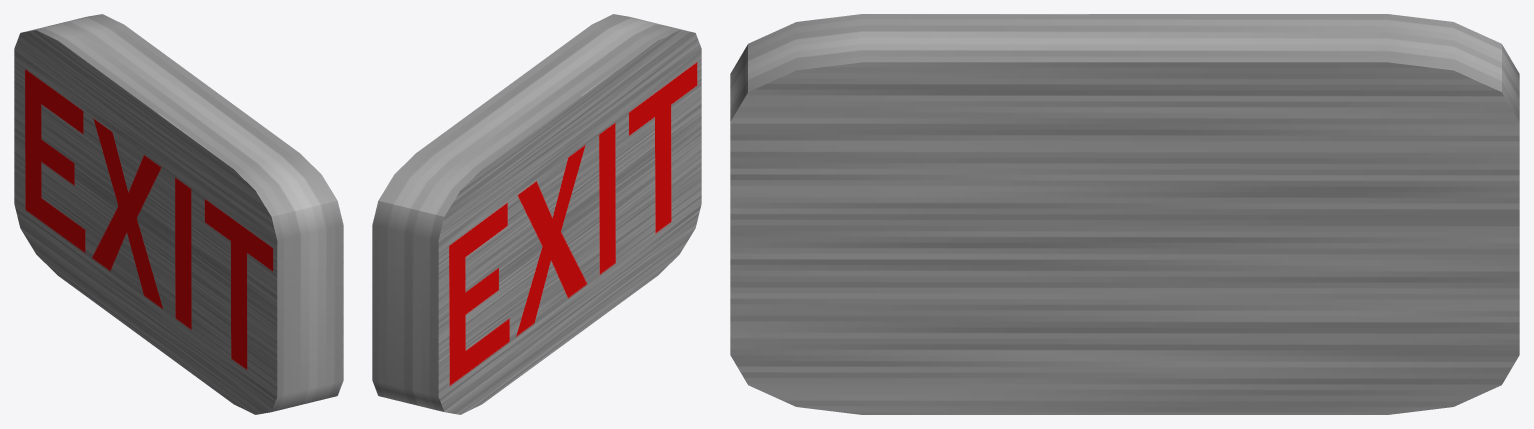
File: Exit_Sign.fbx
The picture shows the model from 3 angles, left to right: view 1: azimuth 30°, elevation 25°; view 2: azimuth 150°, elevation 25°; view 3: azimuth 270°, elevation 25°; orthographic projection. The views are drawn at different scales.
Parts seen in each view (by area): view 1: pCube17; view 2: pCube17; view 3: pCube17.
Part boxes in pixels (<box>): pCube17: <box>14,14,343,414</box>; pCube17: <box>372,14,701,414</box>; pCube17: <box>730,14,1519,414</box>.
Bounding box in the file's own units: 39.23 × 133 × 270.
1 material, 1 textured.
